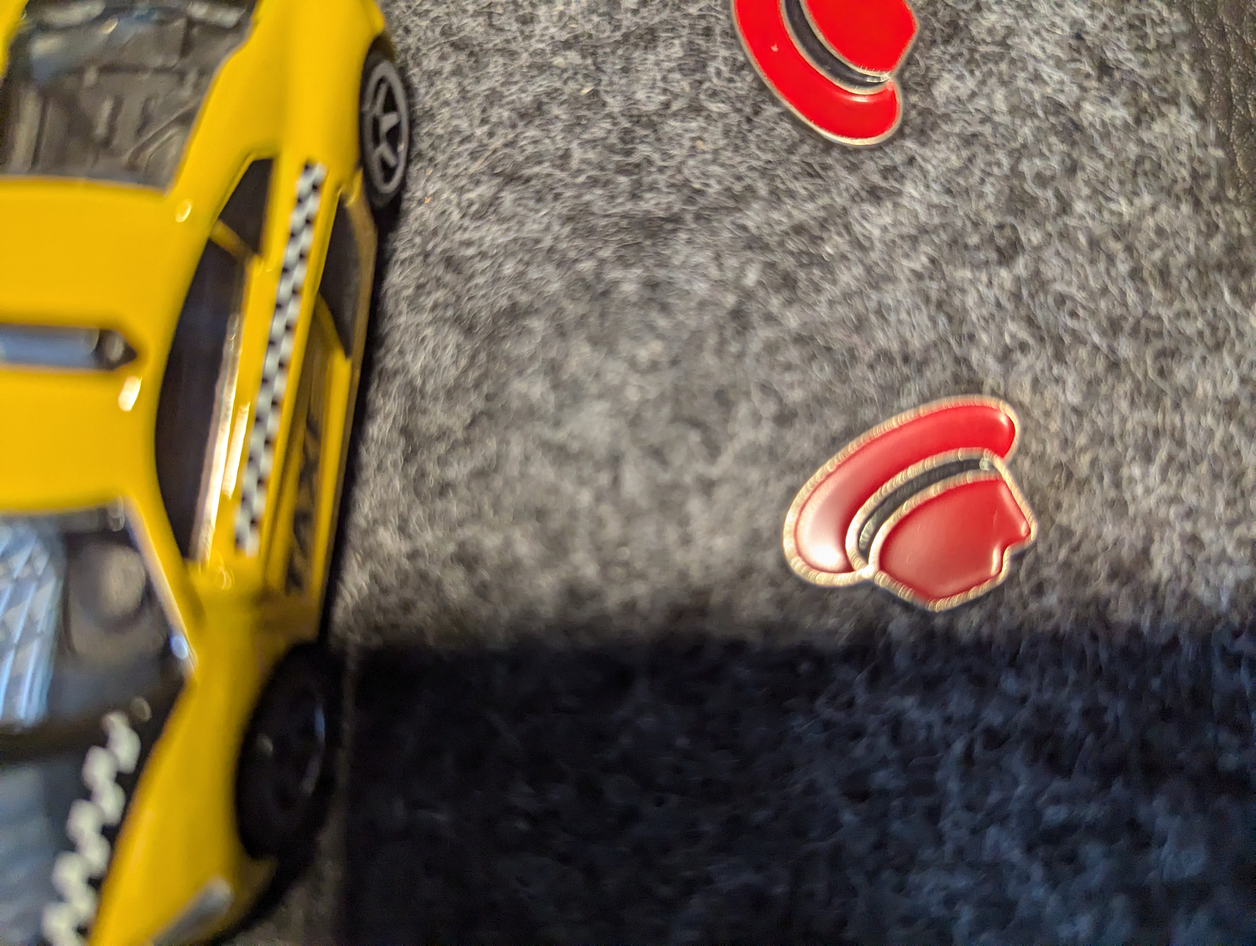Red-Hat: (730, 373, 1077, 635), (694, 0, 926, 193)
